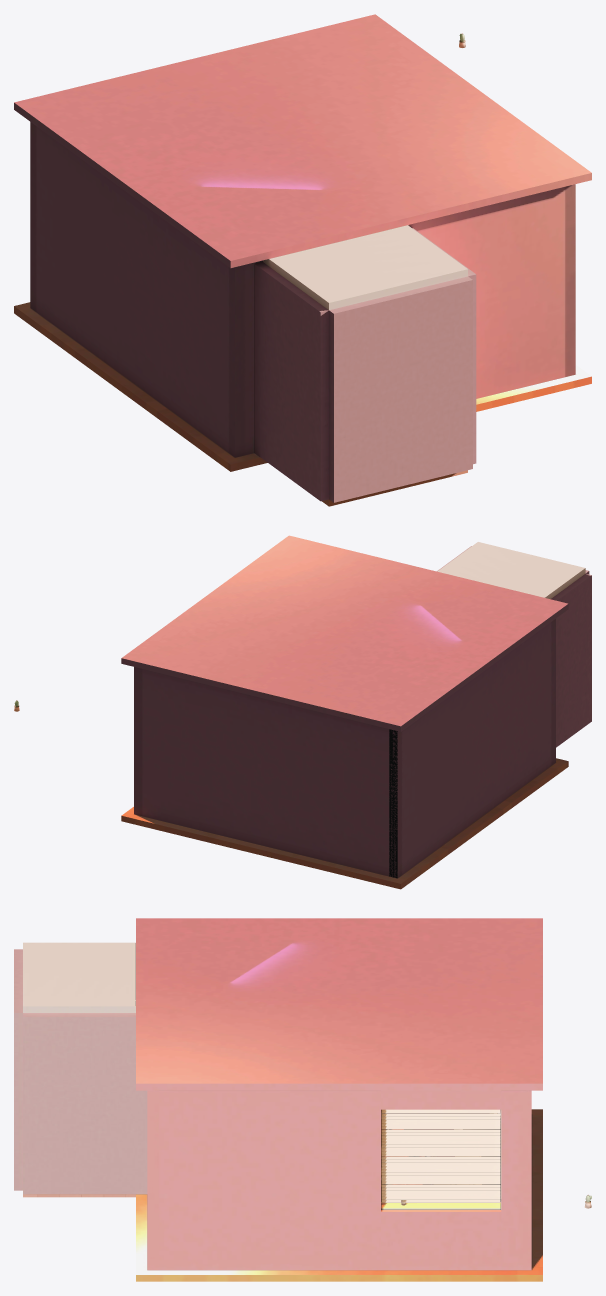
The model's file is room_v10_baked.glb.
3 renders of one model, top to bottom at view 1: azimuth 30°, elevation 25°; view 2: azimuth 150°, elevation 25°; view 3: azimuth 270°, elevation 25°, orthographic. The views are drawn at different scales.
Visible parts, largest first — view 1: BK_room_shell, BK_corridor; view 2: BK_room_shell, BK_corridor; view 3: BK_room_shell, BK_corridor, BK_room_props.
Part boxes in pixels (bbox=[...]): BK_room_shell: bbox=[14, 14, 591, 471]; BK_corridor: bbox=[254, 225, 476, 506]; BK_room_shell: bbox=[121, 535, 568, 889]; BK_corridor: bbox=[437, 542, 591, 747]; BK_room_shell: bbox=[136, 918, 542, 1281]; BK_corridor: bbox=[14, 942, 147, 1197]; BK_room_props: bbox=[381, 1109, 591, 1208].
Bounding box in the file's own units: 6.84 × 2.9 × 7.67.
40 materials, 39 textured.
